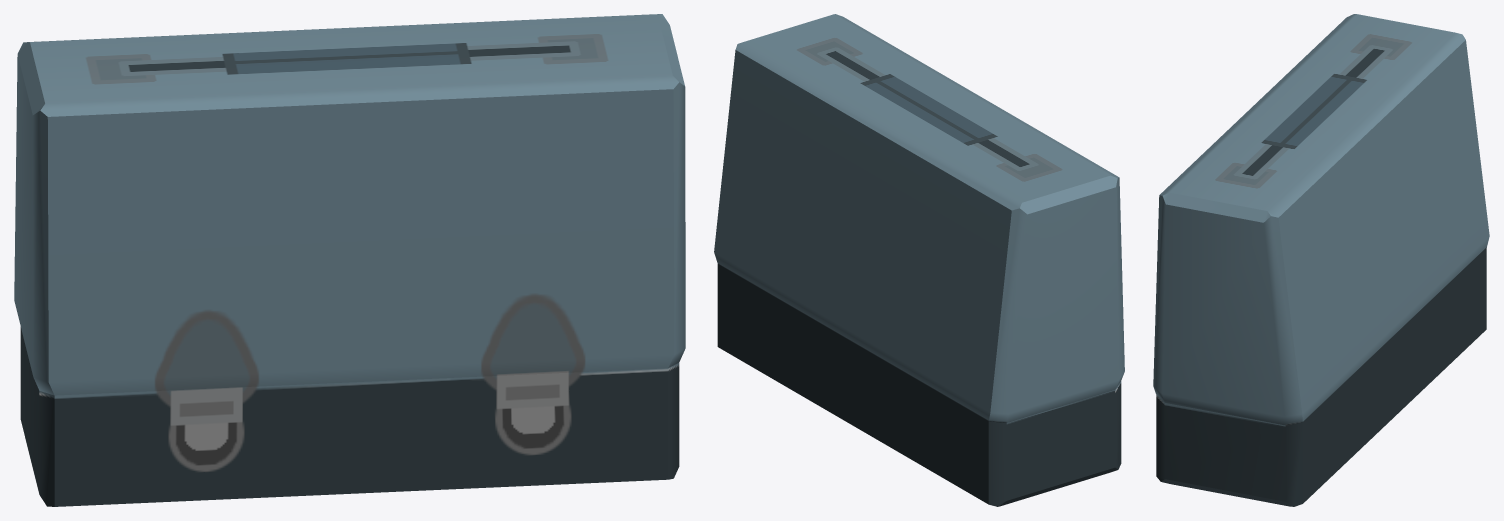
File: Mesh_Cartable.fbx
3 renders of one model, left to right at view 1: azimuth 30°, elevation 25°; view 2: azimuth 150°, elevation 25°; view 3: azimuth 270°, elevation 25°, orthographic. The views are drawn at different scales.
Parts seen in each view (by area): view 1: Cartable; view 2: Cartable; view 3: Cartable.
Part boxes in pixels (x1,y1,x2,y2): Cartable: (14,14,685,506); Cartable: (714,14,1124,506); Cartable: (1153,14,1489,506).
Size of the model in its own units: 0.3629 by 0.2381 by 0.2475.
